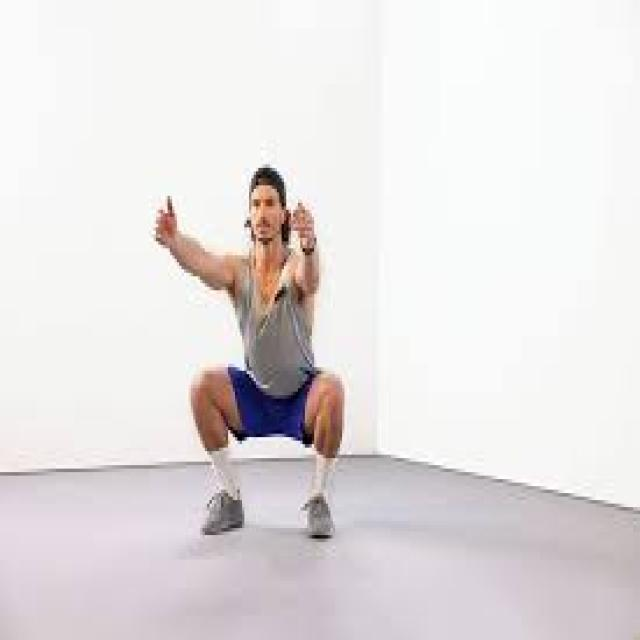squat: (147, 158, 351, 543)
